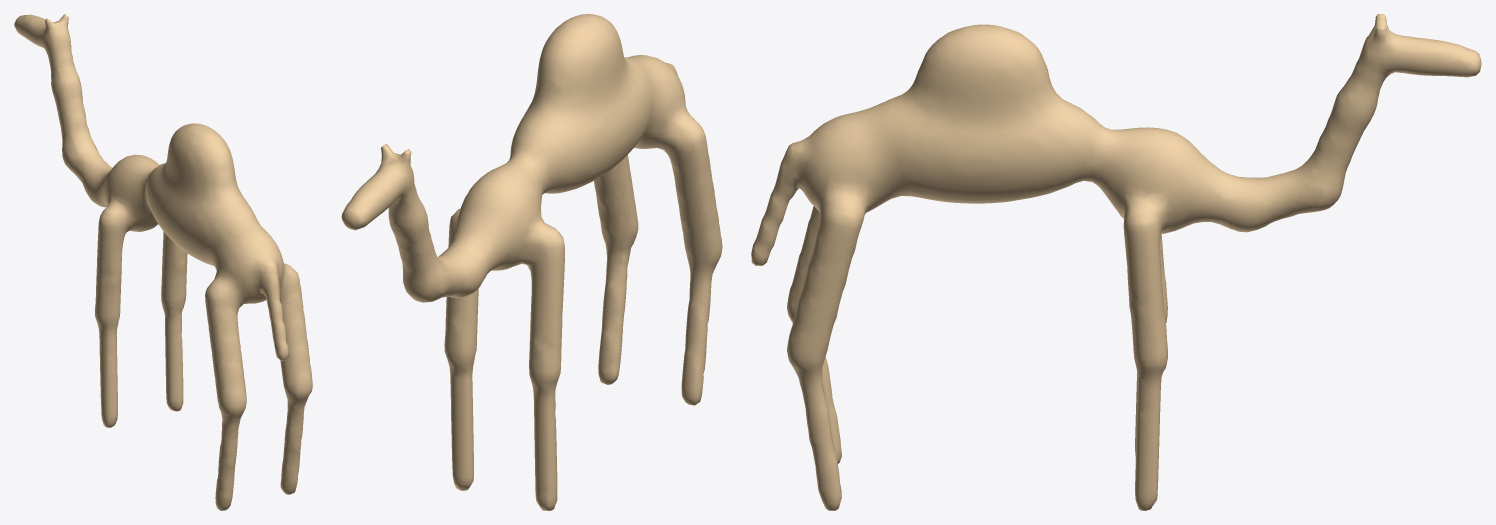
File: camel.glb
The picture shows the model from 3 angles, left to right: view 1: azimuth 30°, elevation 25°; view 2: azimuth 150°, elevation 25°; view 3: azimuth 270°, elevation 25°; orthographic projection. The views are drawn at different scales.
Parts seen in each view (by area): view 1: Camel; view 2: Camel; view 3: Camel.
Part boxes in pixels (bbox=[...]): Camel: bbox=[14, 14, 312, 510]; Camel: bbox=[341, 14, 722, 510]; Camel: bbox=[751, 14, 1481, 510].
Size of the model in its own units: 0.5536 by 1.97 by 2.79.
